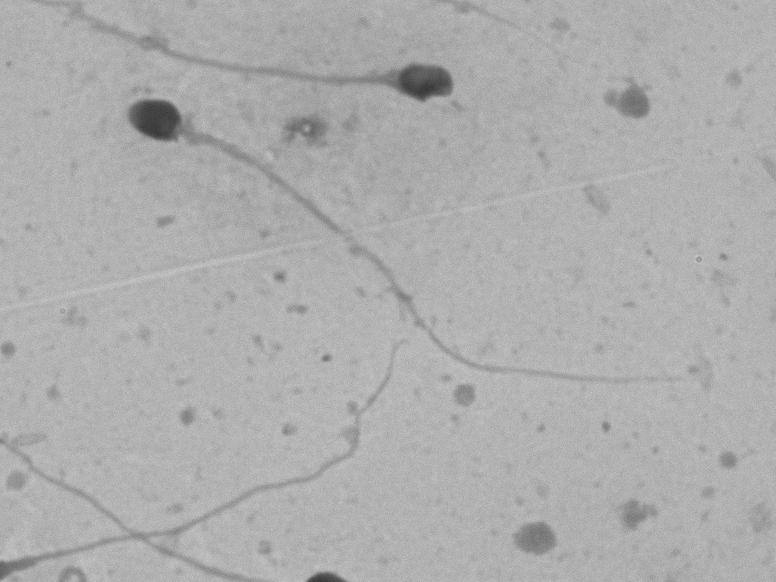Abnormal: (113, 86, 724, 406), (66, 7, 472, 114)
